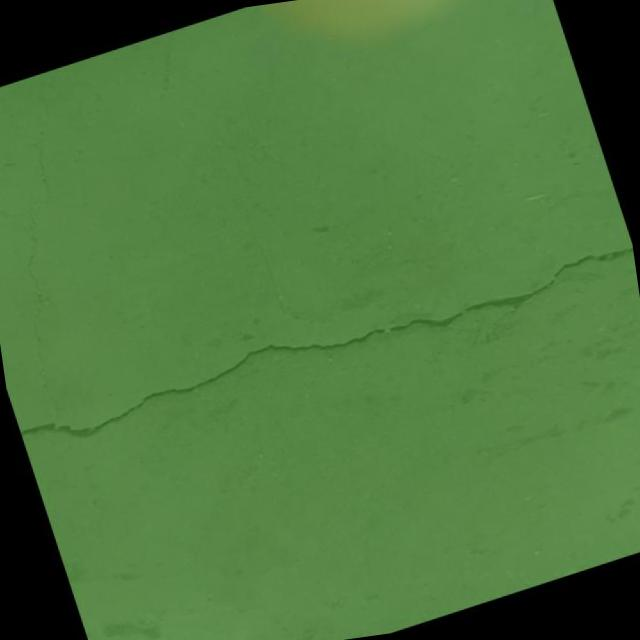crack: (2, 228, 640, 477), (20, 308, 64, 390), (18, 233, 52, 294), (28, 130, 61, 192), (52, 400, 62, 420)
